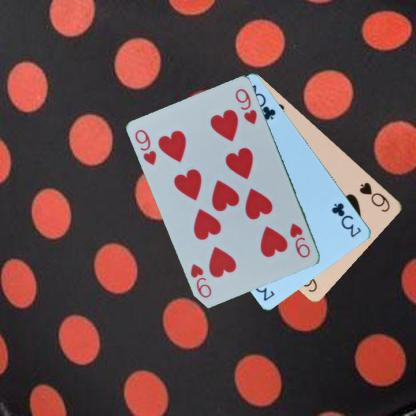3c: (329, 200, 363, 239)
6s: (356, 180, 392, 214)
9h: (132, 127, 158, 167), (287, 220, 312, 260)
